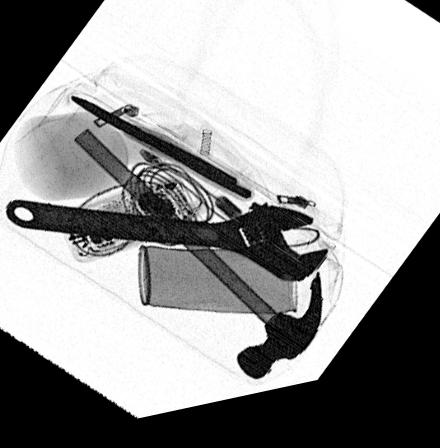Hammer: (71, 131, 325, 390)
Pliers: (64, 95, 253, 215)
Wrench: (4, 200, 328, 296)
